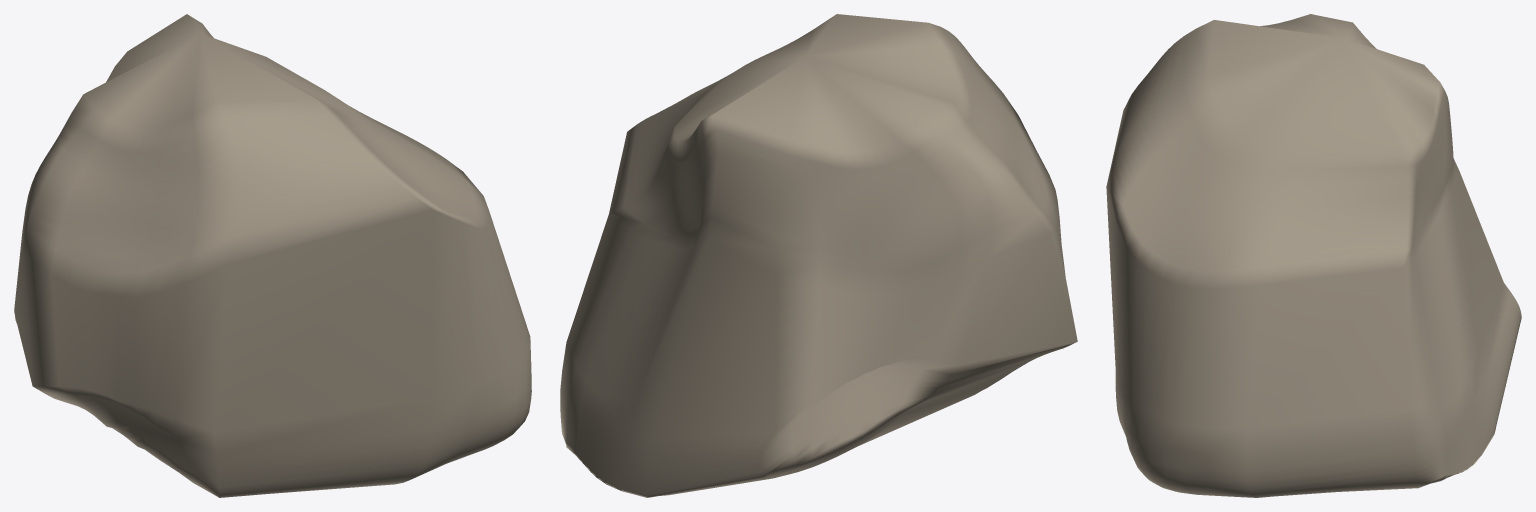
Rendered from landscape.rock.gritstone_04.glb.
3 renders of one model, left to right at view 1: azimuth 30°, elevation 25°; view 2: azimuth 150°, elevation 25°; view 3: azimuth 270°, elevation 25°, orthographic. The views are drawn at different scales.
Visible parts, largest first — view 1: main__stone_a98; view 2: main__stone_a98; view 3: main__stone_a98.
Part boxes in pixels (left/top/right/bottom): main__stone_a98: left=14, top=14, right=531, bottom=497; main__stone_a98: left=560, top=14, right=1077, bottom=497; main__stone_a98: left=1106, top=14, right=1521, bottom=497.
Size of the model in its own units: 0.9695 by 0.8045 by 0.8026.
